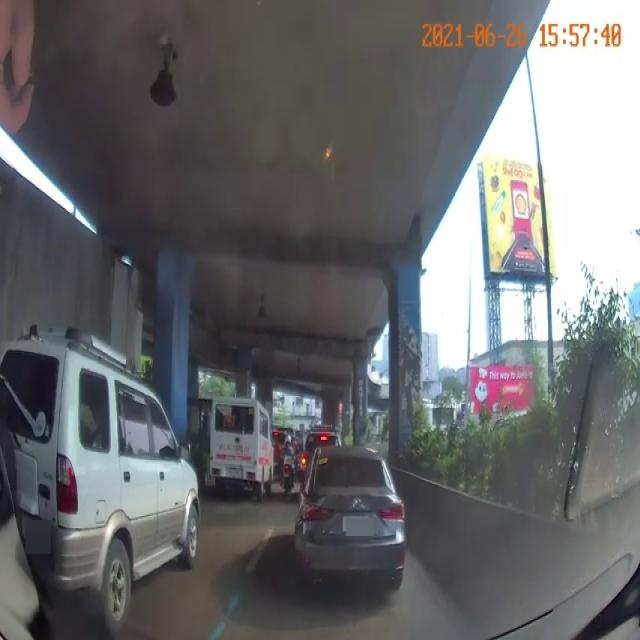car: (0, 331, 206, 624), (211, 395, 278, 509)
motorcycle: (280, 434, 297, 500)
